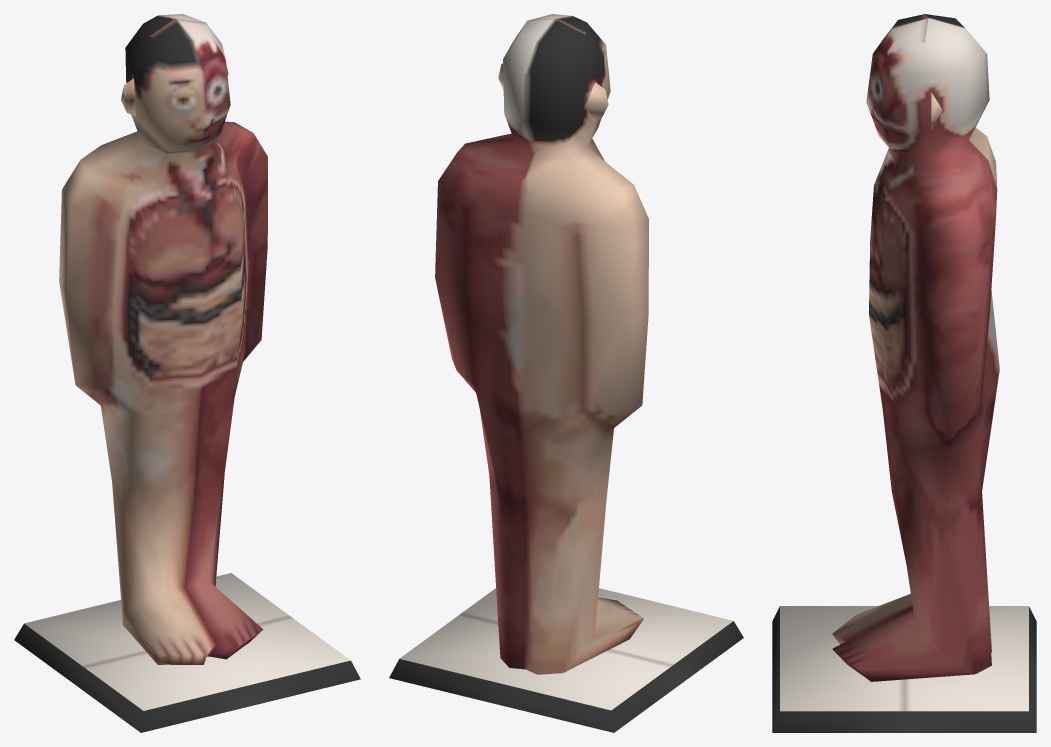
The model's file is int_sch_manikin_normal.dae.
3 views of the same model, side by side, from view 1: azimuth 30°, elevation 25°; view 2: azimuth 150°, elevation 25°; view 3: azimuth 270°, elevation 25° (orthographic). The views are drawn at different scales.
Visible parts, largest first — view 1: int_sch_manikin_normal; view 2: int_sch_manikin_normal; view 3: int_sch_manikin_normal.
Boxes of the visible parts, x1,y1,x2,y2 form: int_sch_manikin_normal: (14, 14, 360, 732); int_sch_manikin_normal: (389, 14, 743, 732); int_sch_manikin_normal: (772, 14, 1036, 732).
Size of the model in its own units: 20.8 by 57.2 by 20.8.
Materials: 1 (1 with a texture image).
